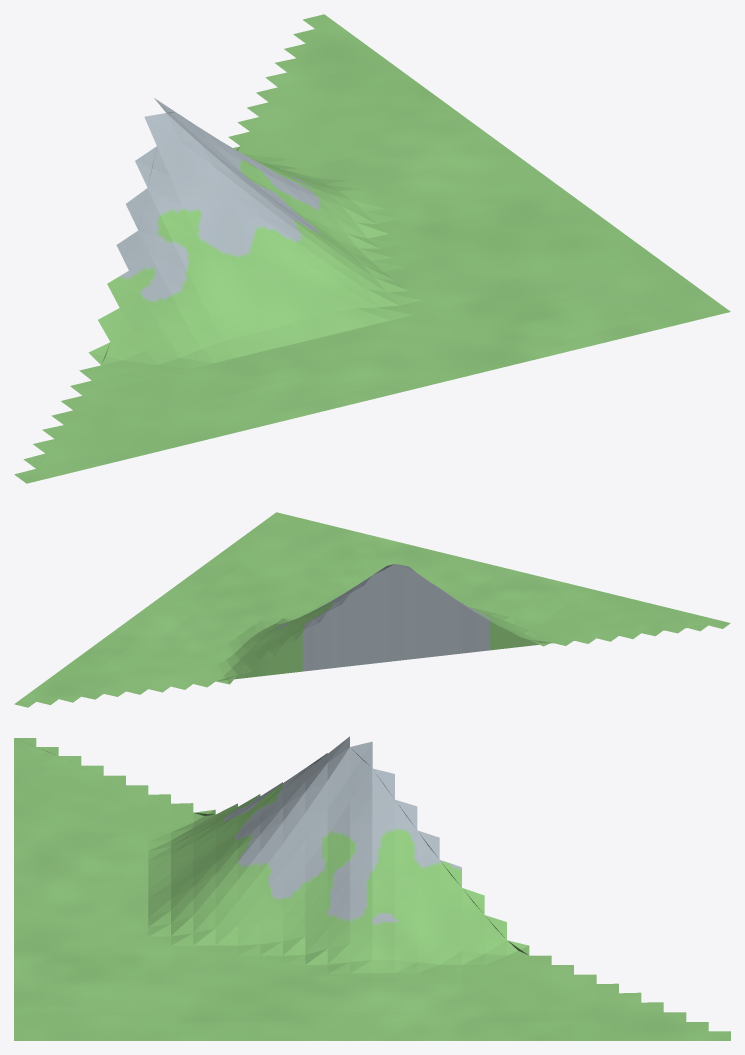
The model's file is Grass_RockyMountains_12_NE.obj.
The picture shows the model from 3 angles, top to bottom: view 1: azimuth 30°, elevation 25°; view 2: azimuth 150°, elevation 25°; view 3: azimuth 270°, elevation 25°; orthographic projection. The views are drawn at different scales.
Bounding box in the file's own units: 10 × 2.13 × 10.
Materials: 1 (1 with a texture image).
